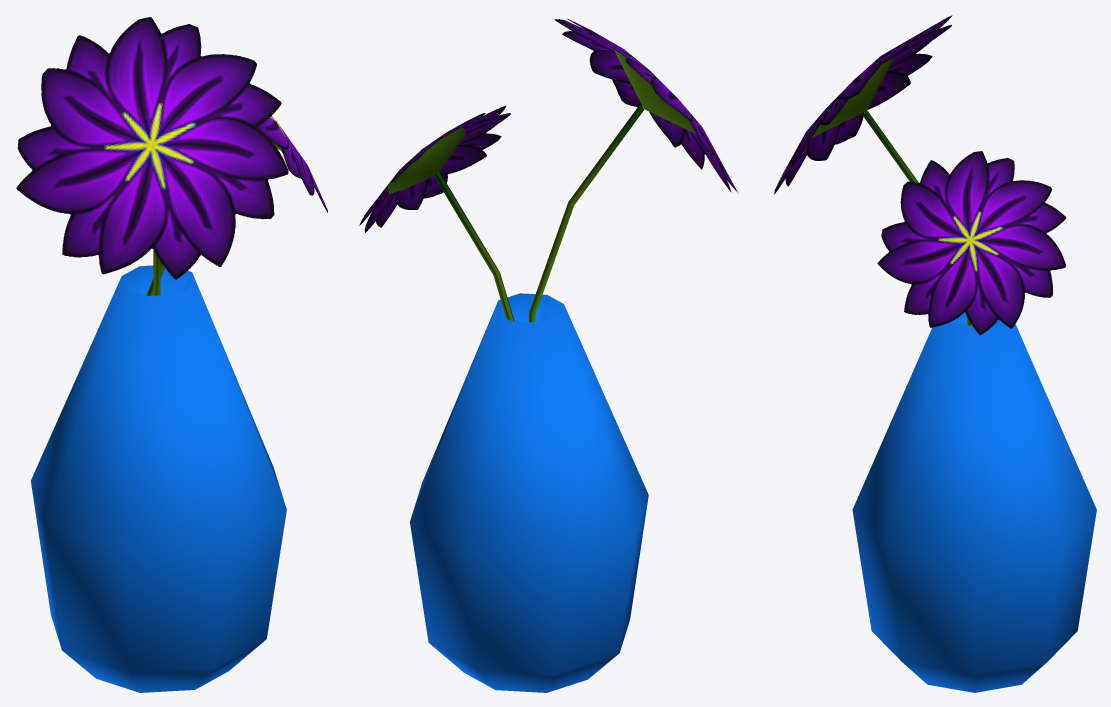
File: FLowers_B_3.FBX
3 views of the same model, side by side, from view 1: azimuth 30°, elevation 25°; view 2: azimuth 150°, elevation 25°; view 3: azimuth 270°, elevation 25° (orthographic). The views are drawn at different scales.
Parts seen in each view (by area): view 1: Vase_And_Flowers; view 2: Vase_And_Flowers; view 3: Vase_And_Flowers.
Boxes of the visible parts, x1,y1,x2,y2 form: Vase_And_Flowers: [16, 17, 327, 692]; Vase_And_Flowers: [359, 18, 738, 692]; Vase_And_Flowers: [774, 15, 1096, 692].
Bounding box in the file's own units: 80.48 × 155 × 73.7.
